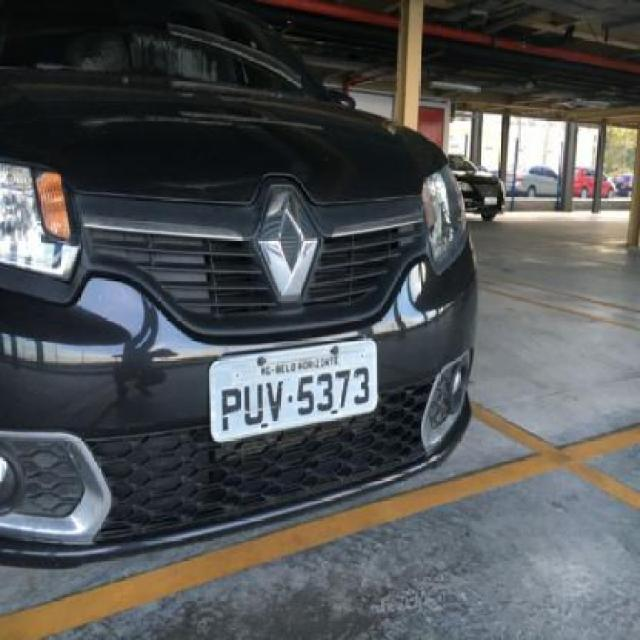old_plate: (203, 336, 384, 450)
